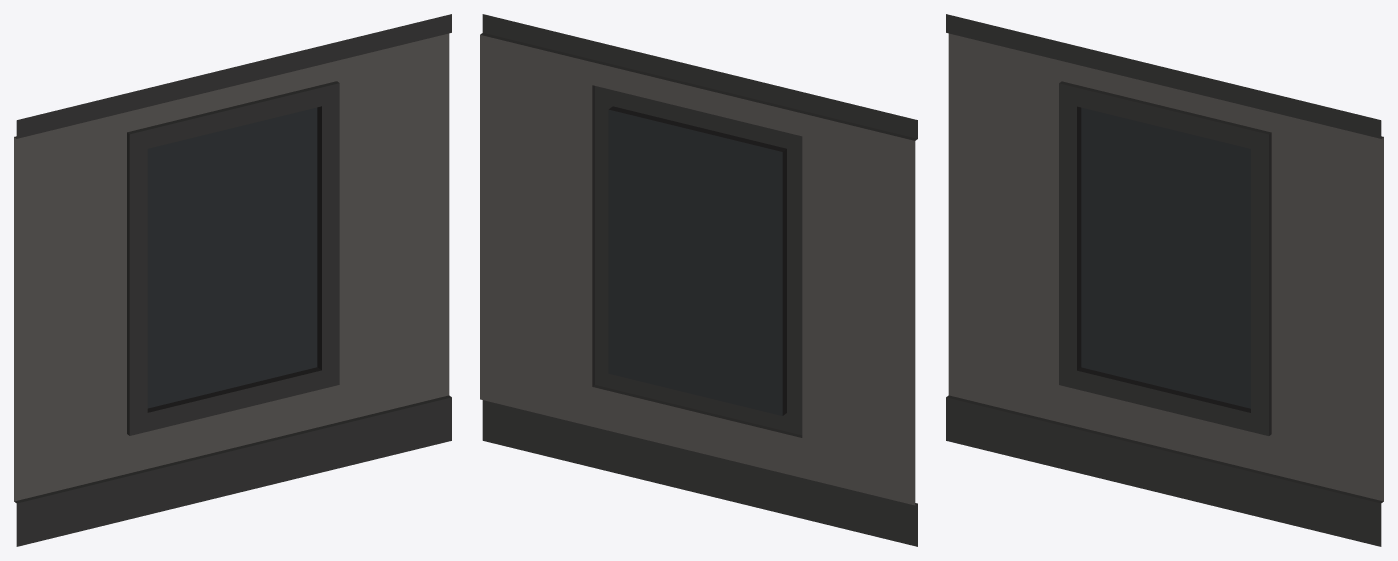
The model's file is WallWindow3.glb.
3 views of the same model, side by side, from view 1: azimuth 30°, elevation 25°; view 2: azimuth 150°, elevation 25°; view 3: azimuth 330°, elevation 25° (orthographic).
Visible parts, largest first — view 1: SI_Env_Wall_Window_04; view 2: SI_Env_Wall_Window_04; view 3: SI_Env_Wall_Window_04.
Part boxes in pixels (x1,y1,x2,y2): SI_Env_Wall_Window_04: [14, 14, 451, 546]; SI_Env_Wall_Window_04: [480, 14, 917, 546]; SI_Env_Wall_Window_04: [946, 14, 1383, 546].
Bounding box in the file's own units: 0.05 × 0.0469 × 0.000885.
1 material, 1 textured.
